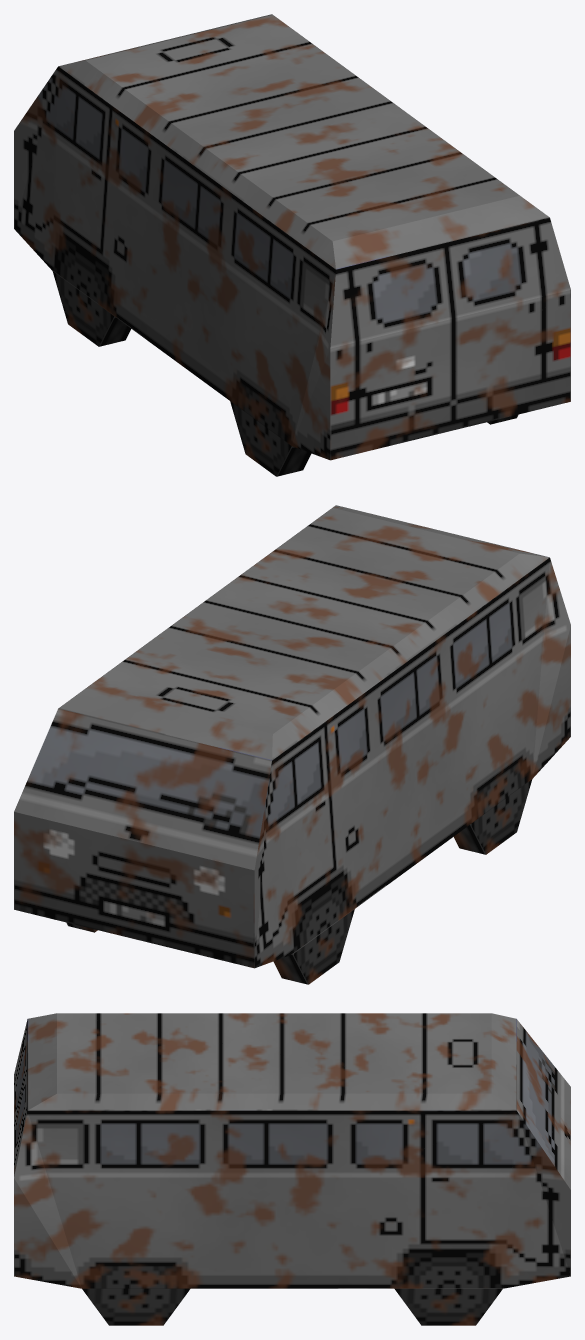
File: prop_car5.glb
3 renders of one model, top to bottom at view 1: azimuth 30°, elevation 25°; view 2: azimuth 150°, elevation 25°; view 3: azimuth 270°, elevation 25°, orthographic. The views are drawn at different scales.
Parts seen in each view (by area): view 1: hull; view 2: hull; view 3: hull.
Boxes of the visible parts, bbox=[...] form: hull: bbox=[14, 14, 570, 476]; hull: bbox=[14, 505, 570, 984]; hull: bbox=[14, 1013, 570, 1325].
Bounding box in the file's own units: 1.05 × 1.05 × 2.4.
1 material, 1 textured.
